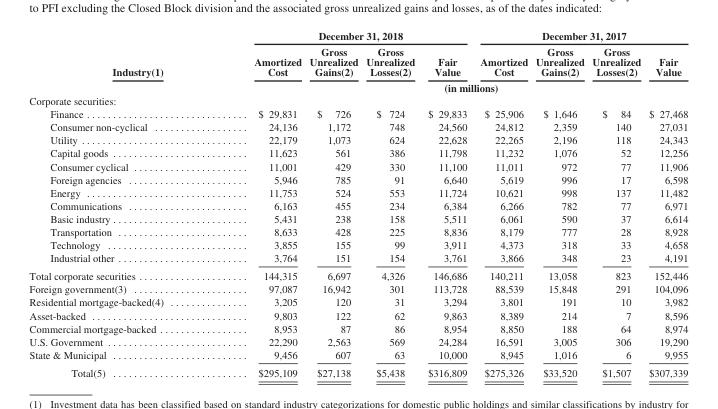table: (28, 29, 687, 378)
table column: (28, 29, 208, 378), (208, 29, 304, 378), (361, 29, 420, 378), (473, 29, 531, 378), (304, 29, 361, 378), (587, 29, 644, 378), (531, 29, 587, 378), (420, 29, 473, 378), (644, 29, 687, 378)
table column header: (28, 29, 687, 94)
table projected row header: (28, 94, 687, 107)
table row: (28, 42, 687, 79), (28, 250, 687, 266), (28, 266, 687, 282), (28, 347, 687, 363), (28, 79, 687, 94), (28, 363, 687, 378), (28, 29, 687, 42), (28, 94, 687, 107), (28, 107, 687, 120), (28, 120, 687, 133), (28, 133, 687, 146), (28, 146, 687, 159), (28, 159, 687, 172), (28, 172, 687, 185), (28, 185, 687, 198), (28, 198, 687, 211), (28, 211, 687, 224), (28, 224, 687, 237), (28, 237, 687, 250), (28, 282, 687, 295), (28, 295, 687, 308), (28, 308, 687, 321), (28, 321, 687, 334), (28, 334, 687, 347)
table spanning cell: (28, 29, 208, 94), (208, 79, 687, 94), (208, 29, 473, 42), (473, 29, 687, 42)
